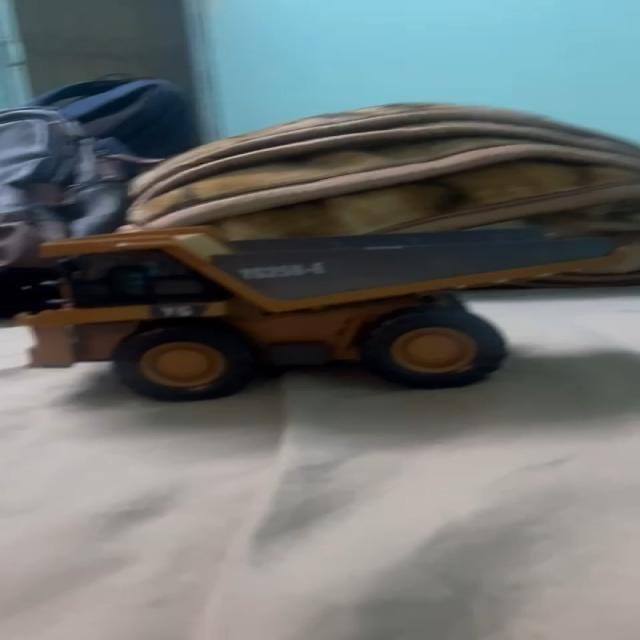dump_truck: (4, 225, 632, 396)
